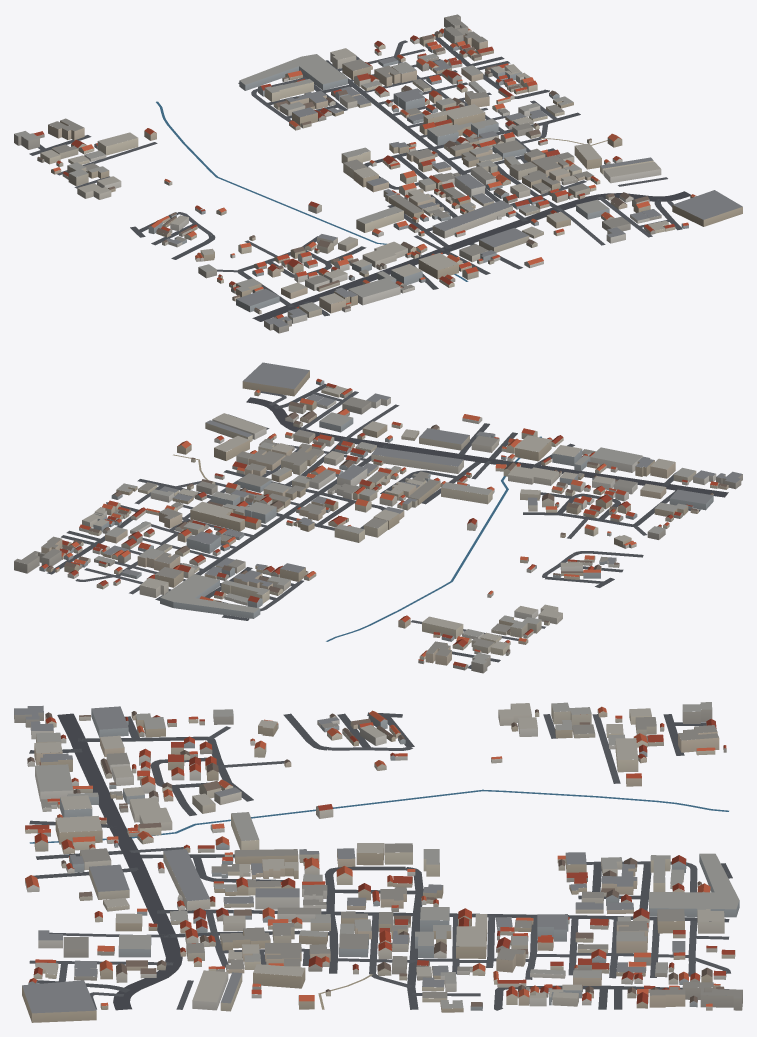
3 views of the same model, one above another, from view 1: azimuth 30°, elevation 25°; view 2: azimuth 150°, elevation 25°; view 3: azimuth 270°, elevation 25° (orthographic). The views are drawn at different scales.
Parts seen in each view (by area): view 1: buildings_roofs, buildings_walls, roads, water; view 2: buildings_roofs, buildings_walls, roads, water; view 3: buildings_roofs, buildings_walls, roads, water.
Part boxes in pixels (x1,y1,x2,y2): buildings_roofs: (14,14,742,327); buildings_walls: (14,17,742,333); roads: (29,34,690,321); water: (156,101,468,281); buildings_roofs: (14,362,742,667); buildings_walls: (14,370,742,673); roads: (47,384,728,668); water: (326,436,541,641); buildings_roofs: (14,702,742,1013); buildings_walls: (14,704,742,1022); roads: (29,712,732,1010); water: (29,789,728,843).
Size of the model in its own units: 528 by 9.72 by 521.
